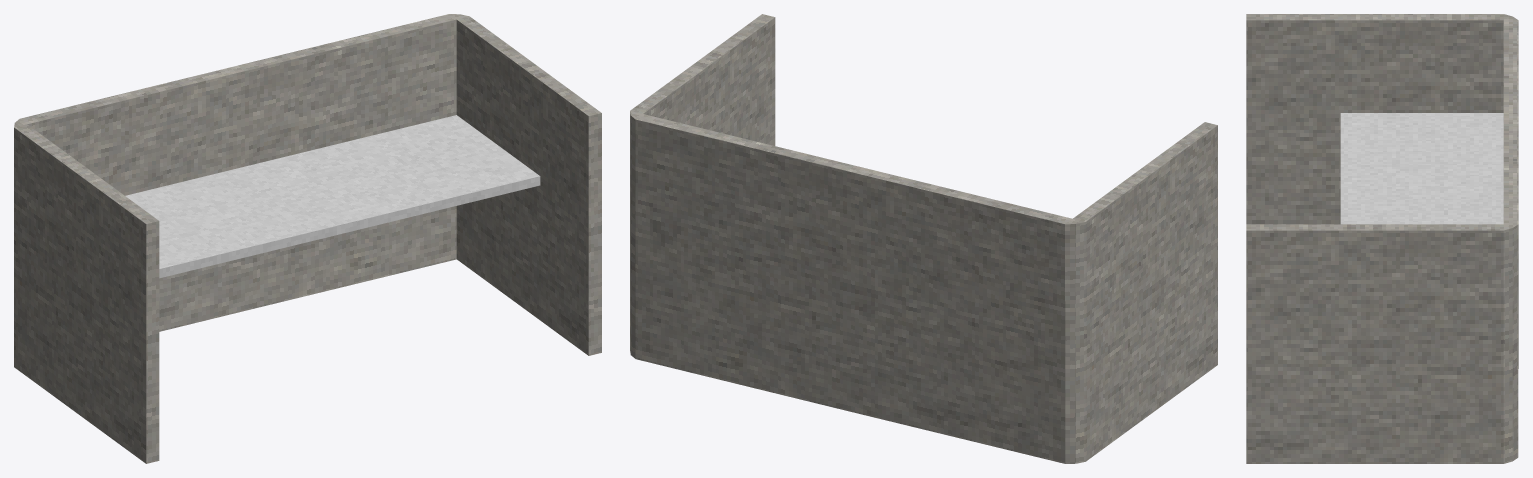
File: divider_full_c_desk.glb
3 renders of one model, left to right at view 1: azimuth 30°, elevation 25°; view 2: azimuth 150°, elevation 25°; view 3: azimuth 270°, elevation 25°, orthographic. The views are drawn at different scales.
Parts seen in each view (by area): view 1: divider_full_c_desk; view 2: divider_full_c_desk; view 3: divider_full_c_desk.
Boxes of the visible parts, x1,y1,x2,y2 form: divider_full_c_desk: (14, 14, 601, 463); divider_full_c_desk: (630, 14, 1217, 463); divider_full_c_desk: (1246, 14, 1518, 463).
Size of the model in its own units: 2.99 by 1.5 by 1.59.
Materials: 1 (1 with a texture image).
